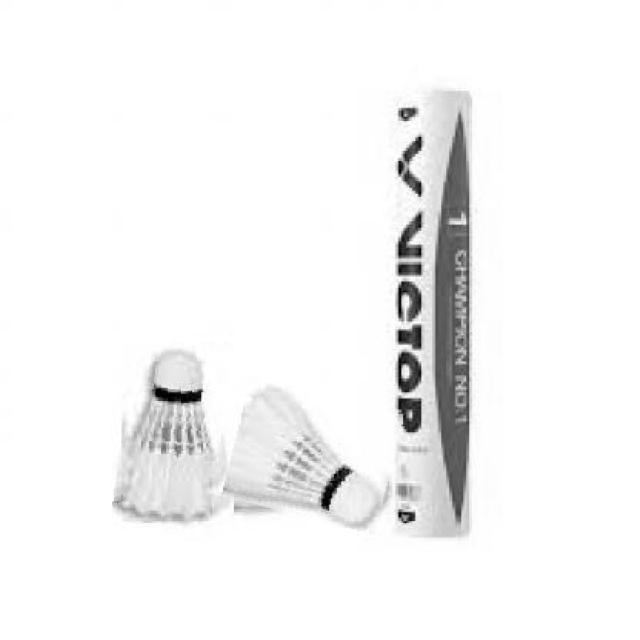Shuttlecock: (212, 383, 398, 525), (117, 343, 238, 526)
